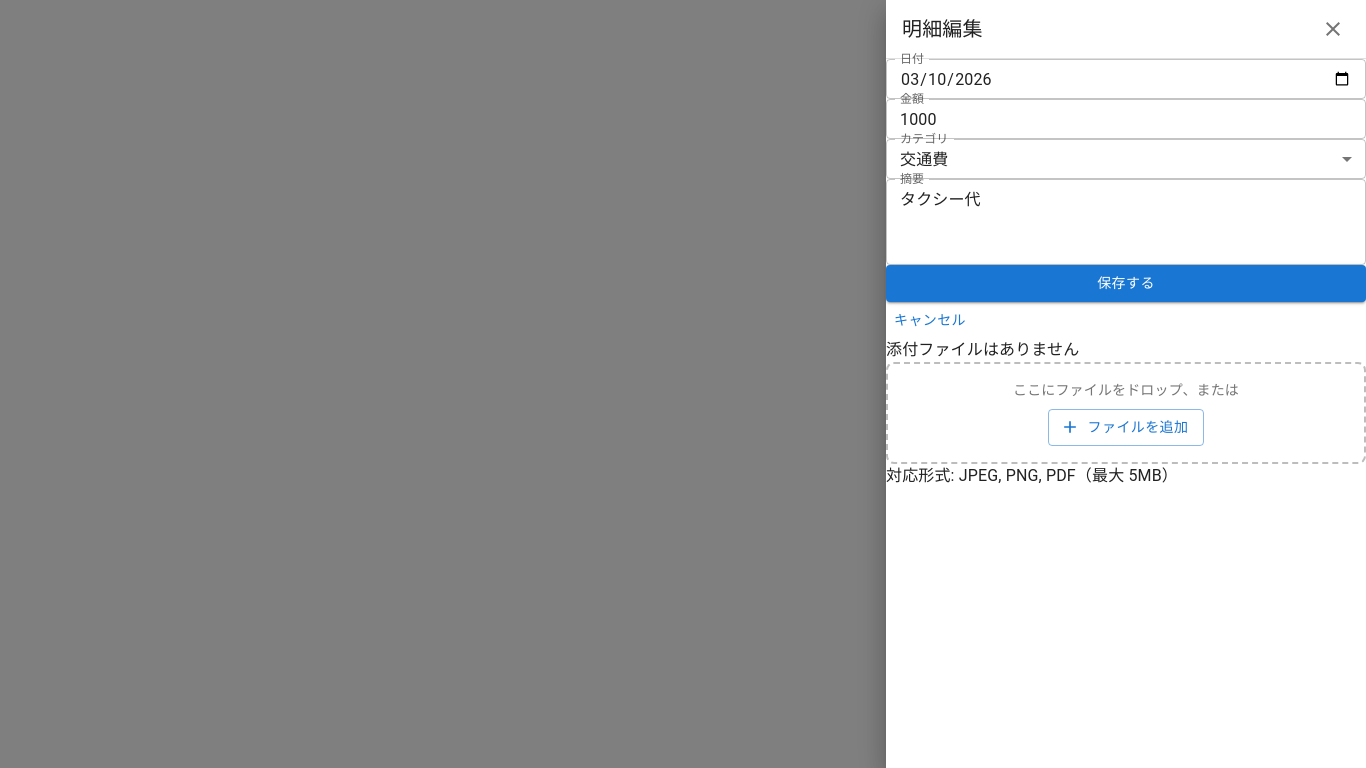
Test case: ItemSlidePanel 破棄確認ダイアログ（ATT-FE-064〜071, issue #108） › ATT-FE-068: discards_changes_on_dialog_discard_button
The image size is (1366, 768).
金額を変更して dirty にする。
Replace the text in the number field labelled "金額" with "5000" at (1126, 119), box 886,99 -> 1365,139
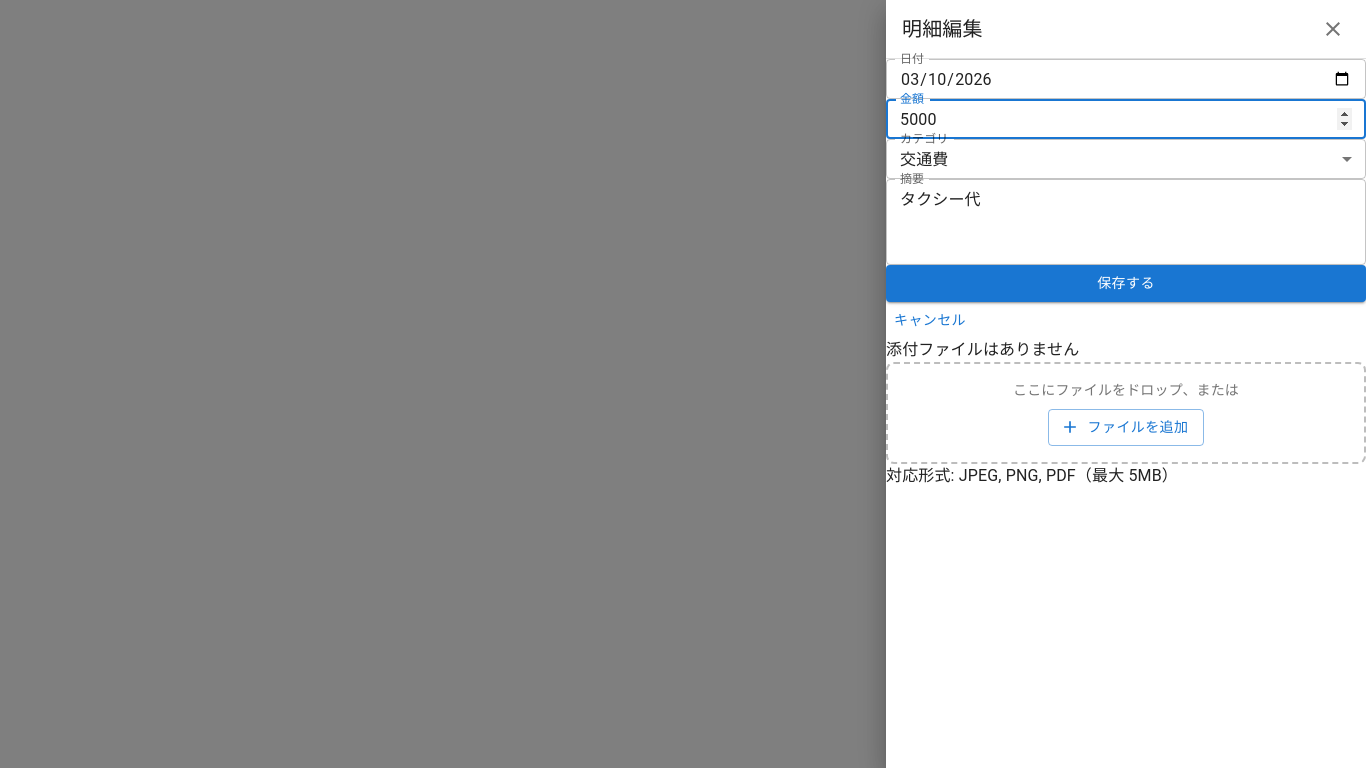
× ボタンで Dialog を表示する。
Click the button named "閉じる" at (1333, 29), box 1316,12 -> 1350,46
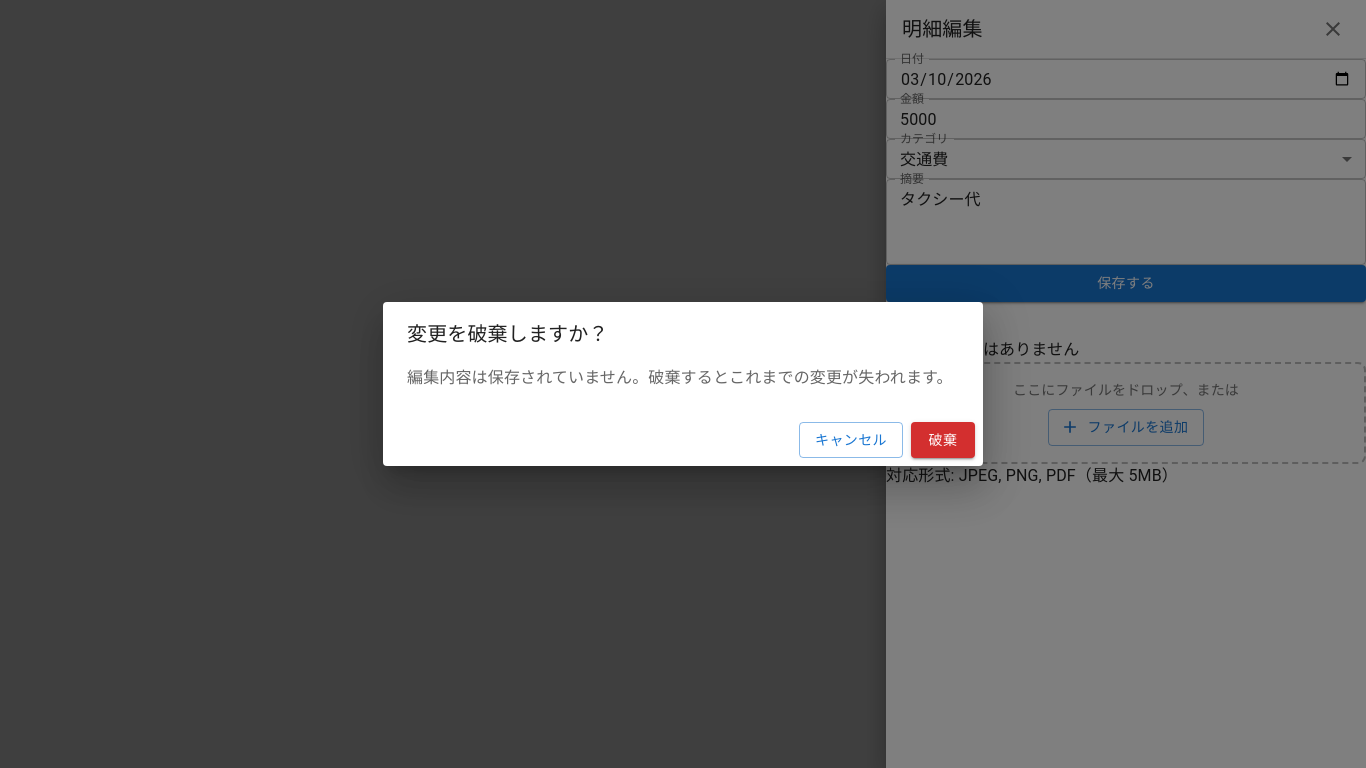
Dialog の「破棄」ボタンをクリック。
Click the button "破棄" at (943, 440), box 911,422 -> 975,458
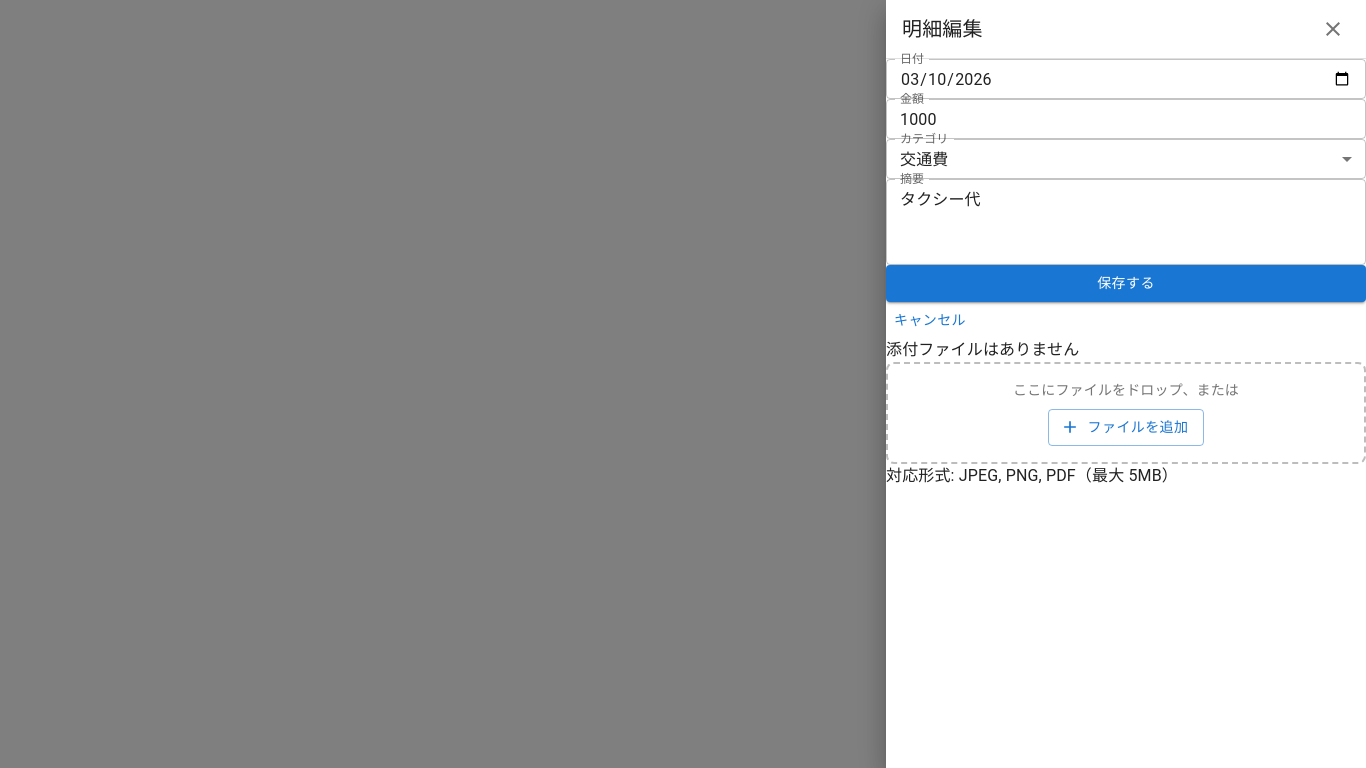
expect the heading "変更を破棄しますか？" is gone: met
